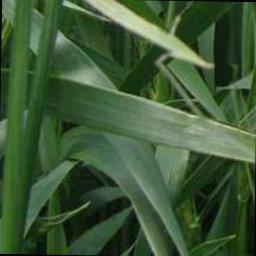Potato: (59, 79, 251, 160)
